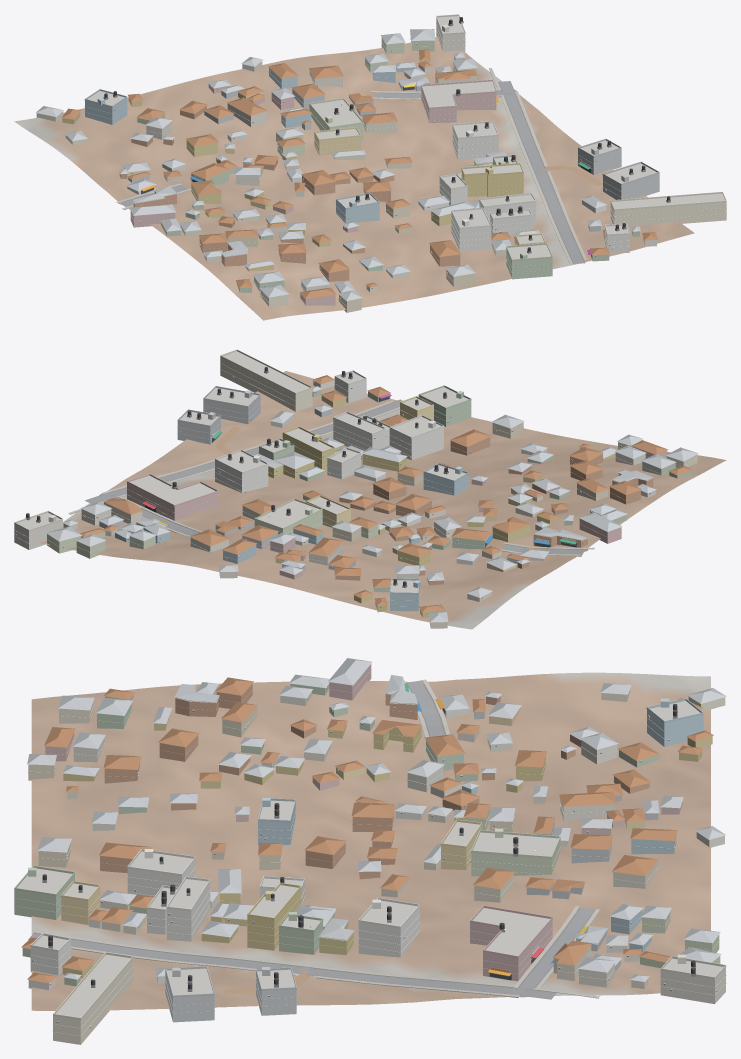
3 renders of one model, top to bottom at view 1: azimuth 30°, elevation 25°; view 2: azimuth 150°, elevation 25°; view 3: azimuth 270°, elevation 25°, orthographic. The views are drawn at different scales.
Parts seen in each view (by area): view 1: Buildings-col, Terrain-col, Details, Roads-col, Sidewalks-col; view 2: Buildings-col, Terrain-col, Details, Roads-col, Sidewalks-col; view 3: Terrain-col, Buildings-col, Details, Roads-col, Sidewalks-col.
Part boxes in pixels (x1,y1,x2,y2): Buildings-col: [36, 16, 726, 312]; Terrain-col: [14, 36, 694, 320]; Details: [66, 14, 726, 306]; Roads-col: [118, 81, 602, 264]; Sidewalks-col: [116, 68, 586, 263]; Buildings-col: [14, 351, 698, 628]; Terrain-col: [39, 371, 726, 629]; Details: [14, 349, 697, 613]; Roads-col: [85, 399, 585, 554]; Sidewalks-col: [68, 400, 594, 556]; Terrain-col: [31, 672, 710, 1010]; Buildings-col: [14, 658, 726, 1044]; Details: [14, 670, 726, 1036]; Roads-col: [28, 680, 595, 999]; Sidewalks-col: [33, 679, 600, 998].
Bounding box in the file's own units: 292 × 31.77 × 269.
